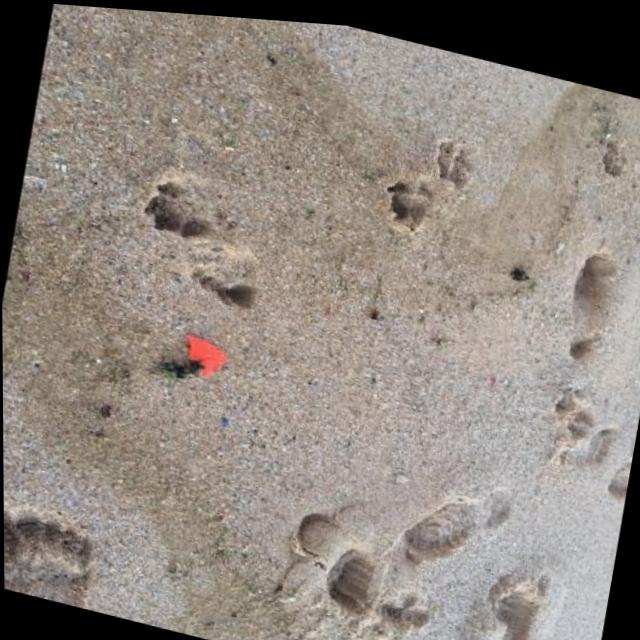plastic: (178, 332, 228, 383)
